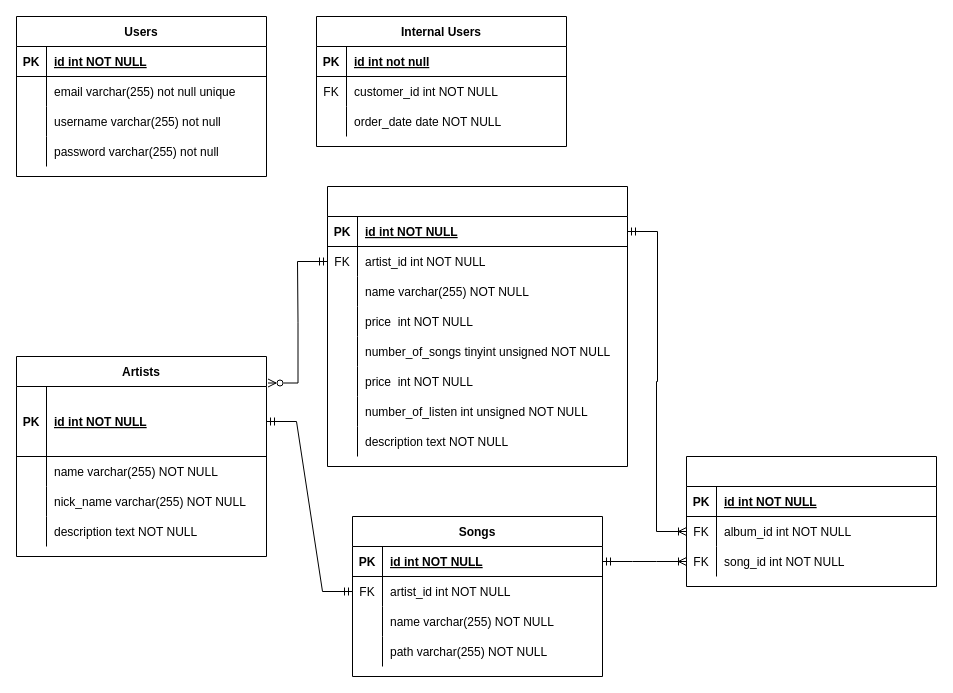
This 953x693 diagram has some shape labels left out. The shapes that lost their labels are listed below. From the top down, each one's box as (x1, y1, x2, y2) in pixels, then its label:
(326, 186, 628, 466): Albums
(686, 456, 936, 586): Albums Songs
